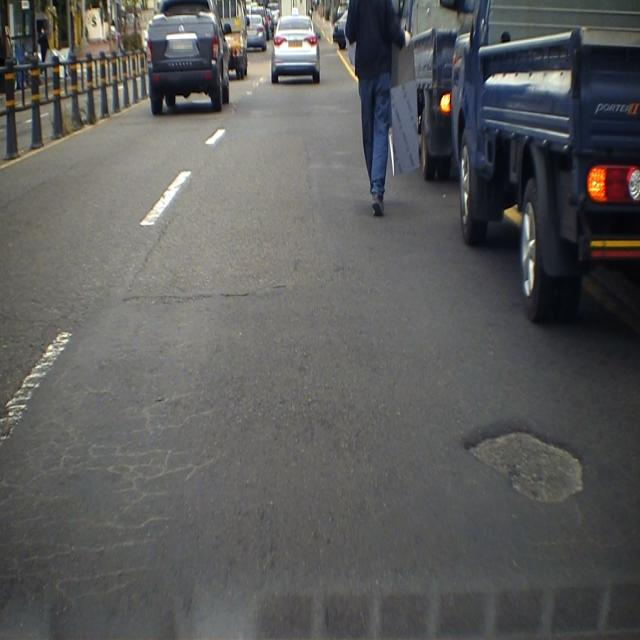Pothole: (454, 416, 588, 527)
